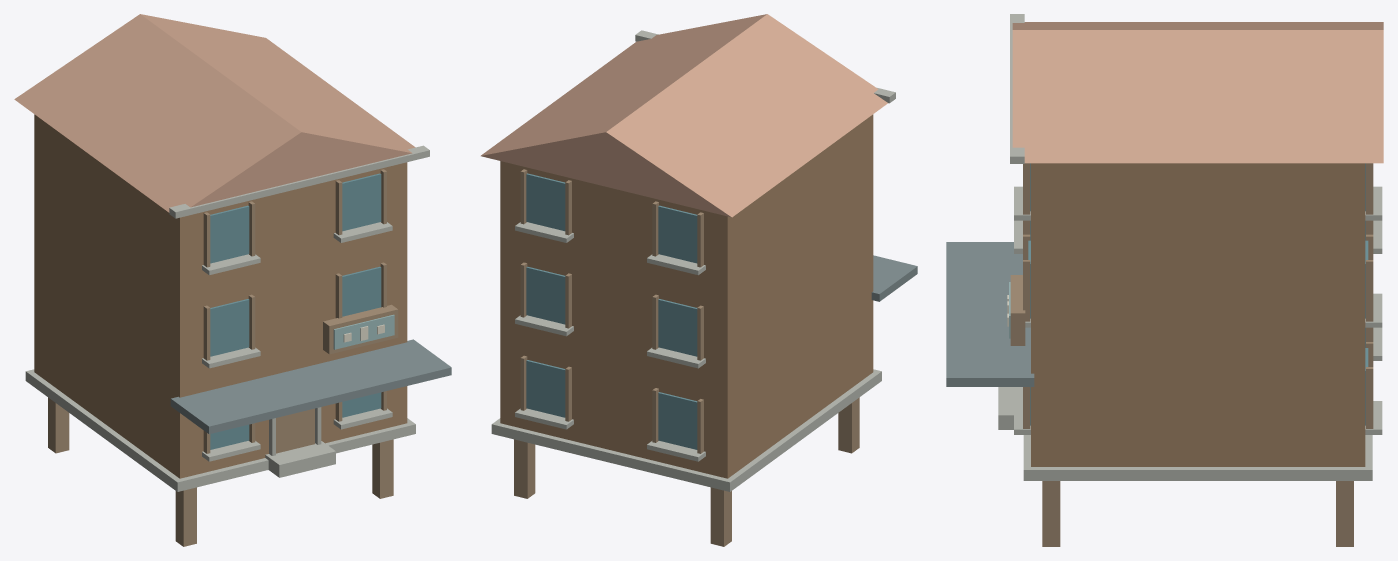
File: stilt-2.glb
The picture shows the model from 3 angles, left to right: view 1: azimuth 30°, elevation 25°; view 2: azimuth 150°, elevation 25°; view 3: azimuth 270°, elevation 25°; orthographic projection. The views are drawn at different scales.
Size of the model in its own units: 4.14 by 6.2 by 5.37.
